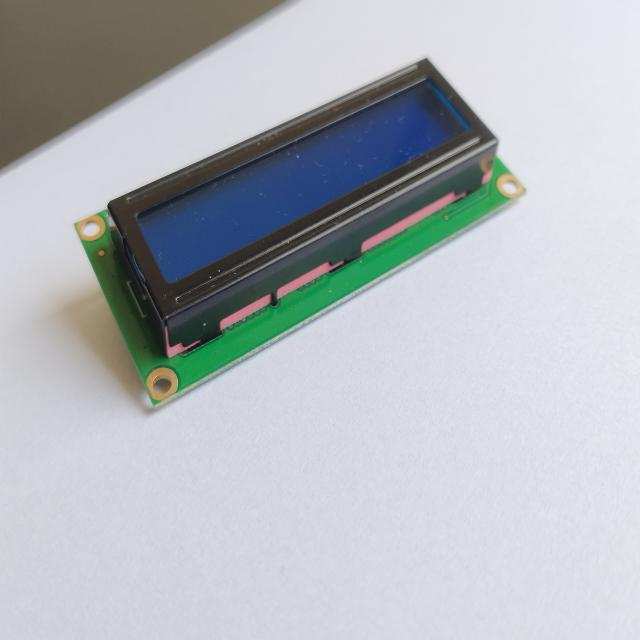lcd: (64, 39, 536, 404)
